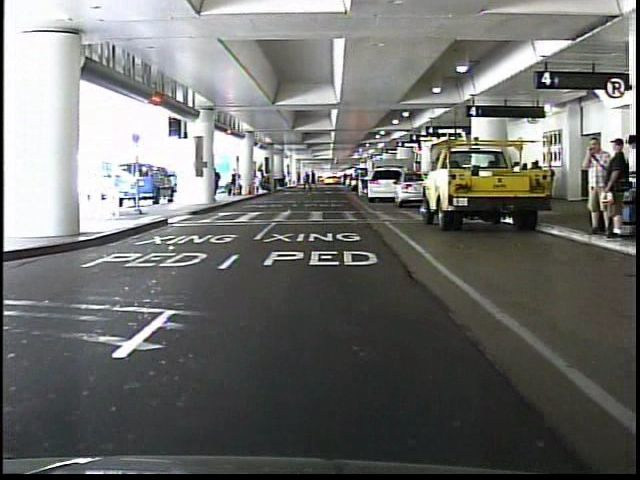person: (577, 135, 607, 236)
